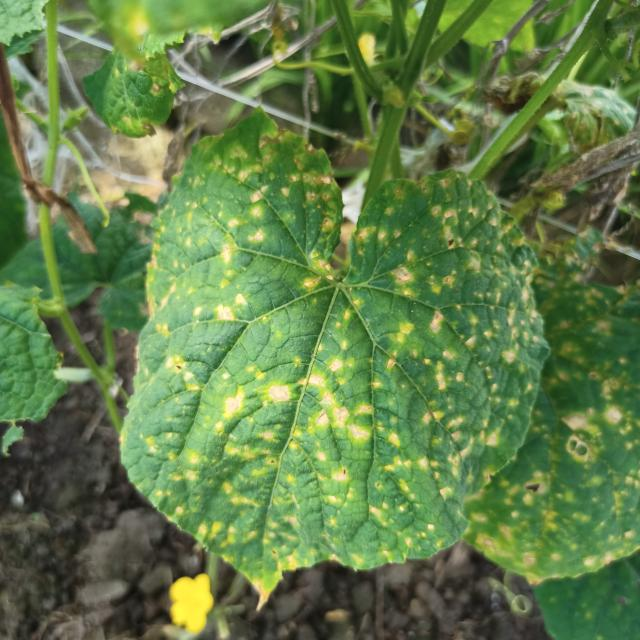disease_cucumber: (134, 138, 541, 566), (470, 272, 640, 568)
